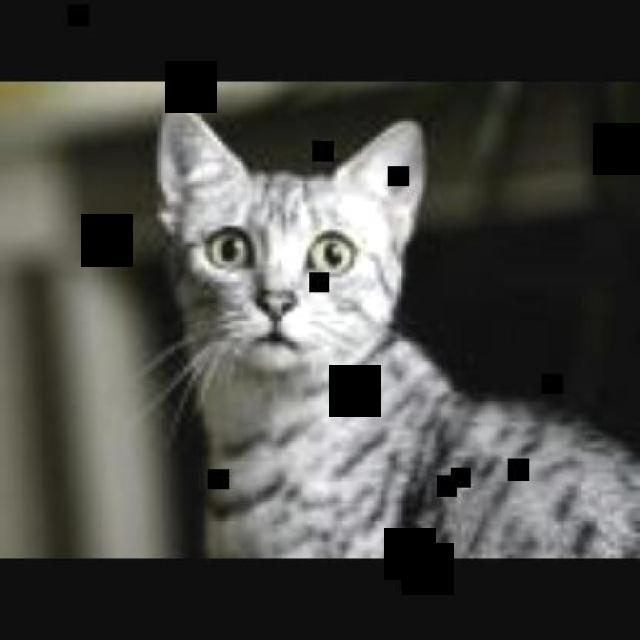unauthorized: (137, 100, 638, 558)
